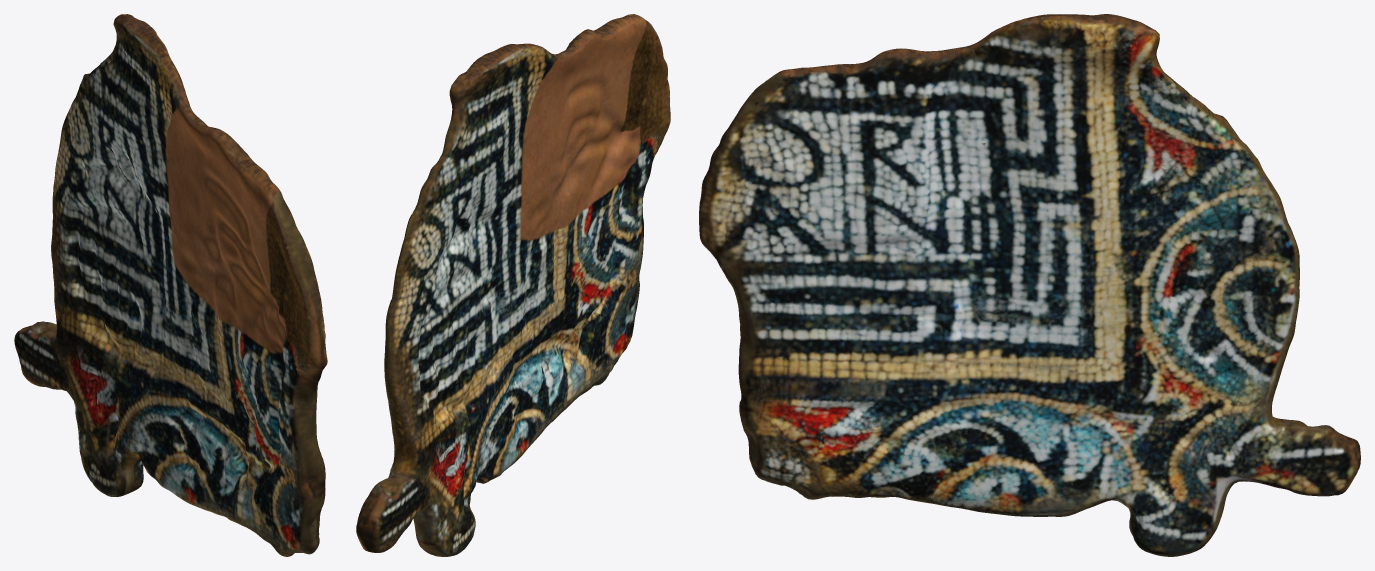
File: primary.glb
3 views of the same model, side by side, from view 1: azimuth 30°, elevation 25°; view 2: azimuth 150°, elevation 25°; view 3: azimuth 270°, elevation 25° (orthographic). The views are drawn at different scales.
Size of the model in its own units: 0.1843 by 1.78 by 2.
Materials: 1 (1 with a texture image).
